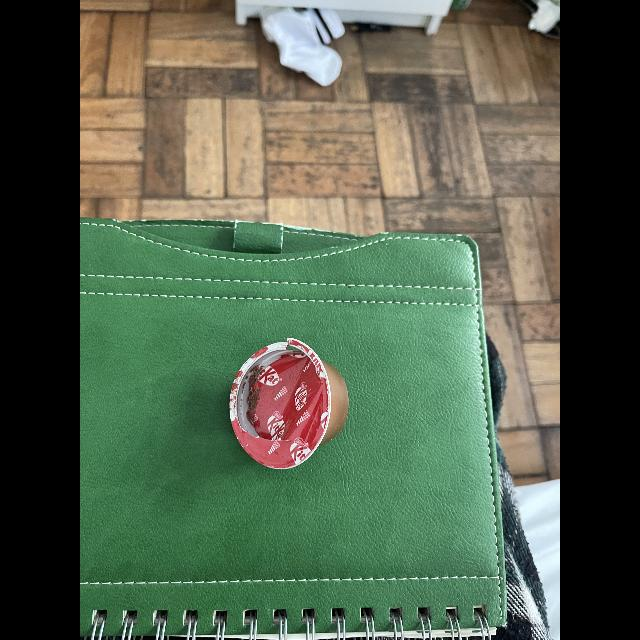damaged_capsule: (222, 334, 358, 482)
